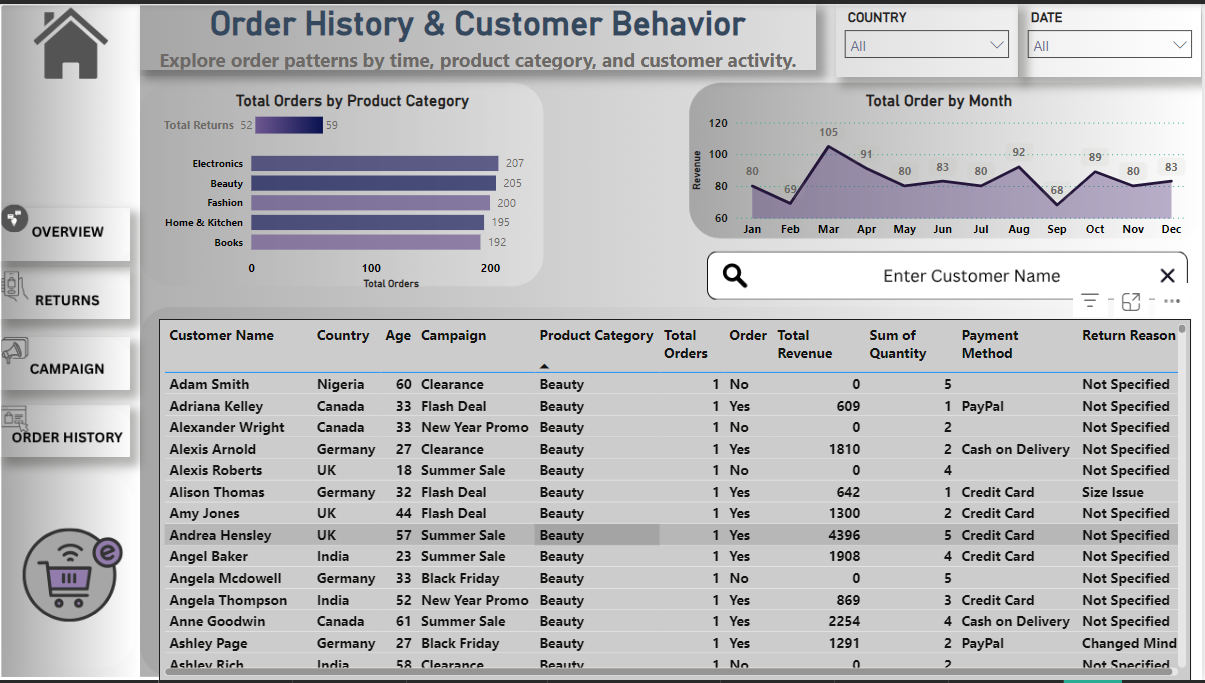

The dashboard page shown, as its layout file describes it:
{"tool":"powerbi","page":{"name":"Order History","canvas":[1280,720],"ordinal":3},"visuals":[{"type":"textbox","box":[148.3,0,1131.7,78.3],"z":1000},{"type":"slicer","fields":{"Values":["DimDate.Year","DimDate.Month "]},"box":[1084.8,0,194.9,78.3],"z":2000},{"type":"textbox","title":"📦 Order History & Customer Behavior","box":[148.6,0,720.5,70.3],"z":3000},{"type":"actionButton","box":[0,0,140,92],"z":4000},{"type":"actionButton","box":[0,218,138,56],"z":5000},{"type":"actionButton","box":[0,280,138,56],"z":6000},{"type":"actionButton","box":[0,354,138,56],"z":7000},{"type":"actionButton","box":[0,426,138,56],"z":8000},{"type":"barChart","fields":{"Y":["Fact.Total Orders"],"Category":["DimProductCategory.Product Category"]},"box":[169.4,92.7,412.2,215.7],"z":9000},{"type":"lineChart","title":"Total Order by Month","fields":{"Y":["Fact.Total Orders"],"Category":["DimDate.Month "]},"box":[731.7,92.7,536.8,164.6],"z":11000},{"type":"tableEx","fields":{"Values":["DimCustomer.Customer Name","DimLocation.Country","DimCustomer.Age","DimCampaign.Campaign","DimProductCategory.Product Category","Fact.Total Orders","Fact.Order","Fact.Total Revenue","Fact.Quantity","DimPaymentMethod.Payment Method","Fact.Return Reason"]},"box":[169.4,335.5,1099.2,385],"z":11002},{"type":"slicer","fields":{"Values":["DimLocation.Country"]},"box":[889.9,0,194.9,78.3],"z":11003}]}

Visuals, with their boxes in screenshot pixels (x1, y1, x2, y2), scaled from the page's 1280x720 canvas onto the 1205x683 screenshot:
textbox: <region>140, 0, 1204, 74</region>
slicer - DimDate.Year x DimDate.Month : <region>1021, 0, 1204, 74</region>
"📦 Order History & Customer Behavior" textbox: <region>140, 0, 818, 67</region>
actionButton: <region>0, 0, 132, 87</region>
actionButton: <region>0, 207, 130, 260</region>
actionButton: <region>0, 266, 130, 319</region>
actionButton: <region>0, 336, 130, 389</region>
actionButton: <region>0, 404, 130, 457</region>
barChart - Fact.Total Orders x DimProductCategory.Product Category: <region>159, 88, 548, 293</region>
"Total Order by Month" lineChart: <region>689, 88, 1194, 244</region>
tableEx - DimCustomer.Customer Name x DimLocation.Country: <region>159, 318, 1194, 682</region>
slicer - DimLocation.Country: <region>838, 0, 1021, 74</region>
